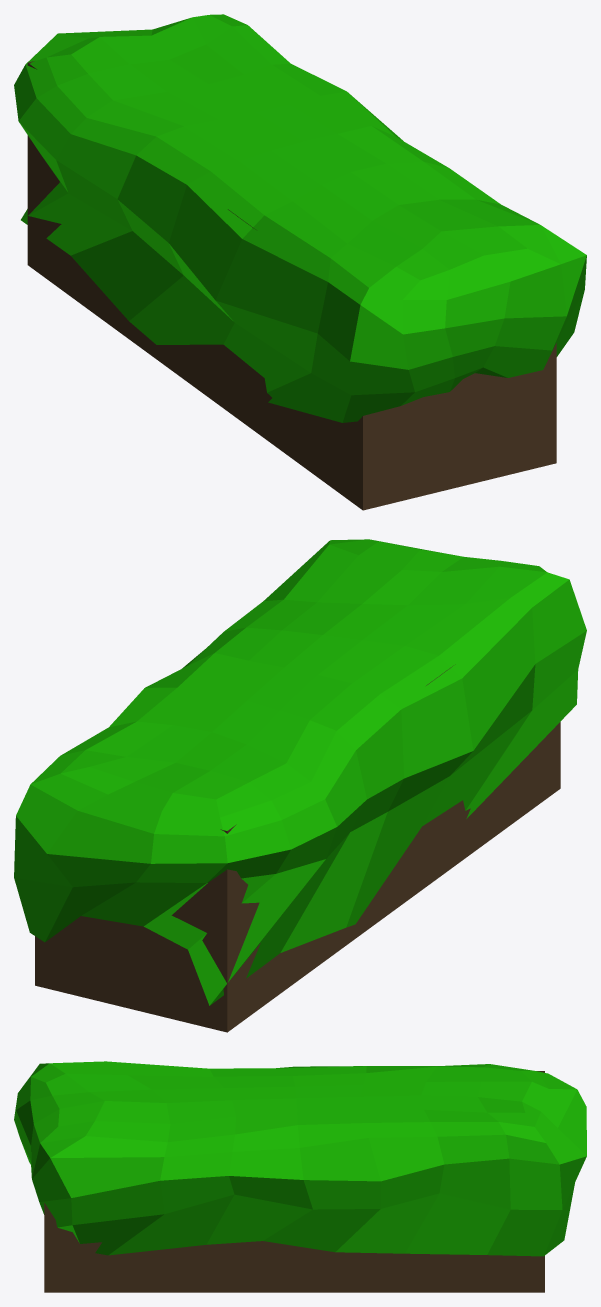
Rendered from grassSmallPlain.fbx.
3 renders of one model, top to bottom at view 1: azimuth 30°, elevation 25°; view 2: azimuth 150°, elevation 25°; view 3: azimuth 270°, elevation 25°, orthographic. The views are drawn at different scales.
Parts seen in each view (by area): view 1: 1x1 grass; view 2: 1x1 grass; view 3: 1x1 grass.
Part boxes in pixels (x1,y1,x2,y2): 1x1 grass: (14, 14, 586, 510); 1x1 grass: (14, 539, 586, 1032); 1x1 grass: (14, 1061, 586, 1292).
Bounding box in the file's own units: 145 × 344 × 113.
